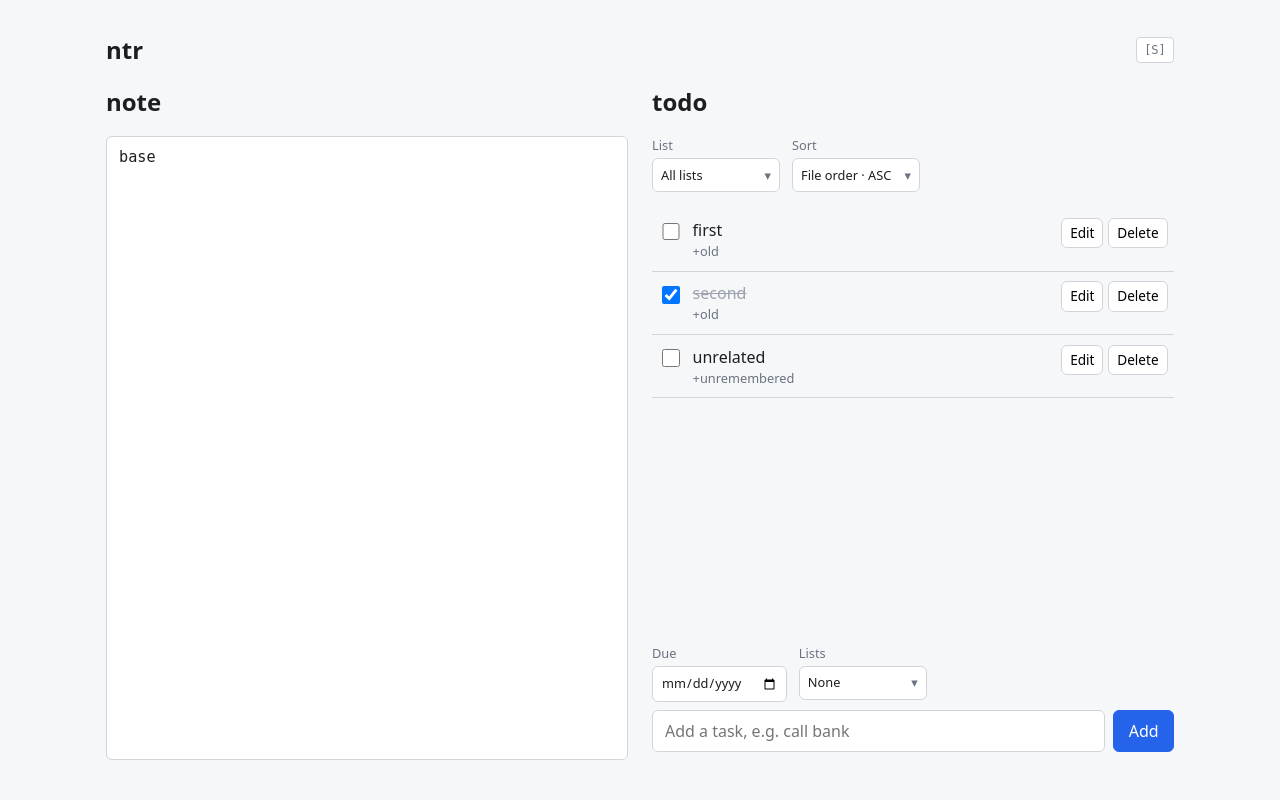
Test: list rename through real panes and transport › retains unrelated task-derived list suggestions after completion
Step 1. Click the button with aria-label "List filter" → (716, 175), box [652, 158, 780, 192]
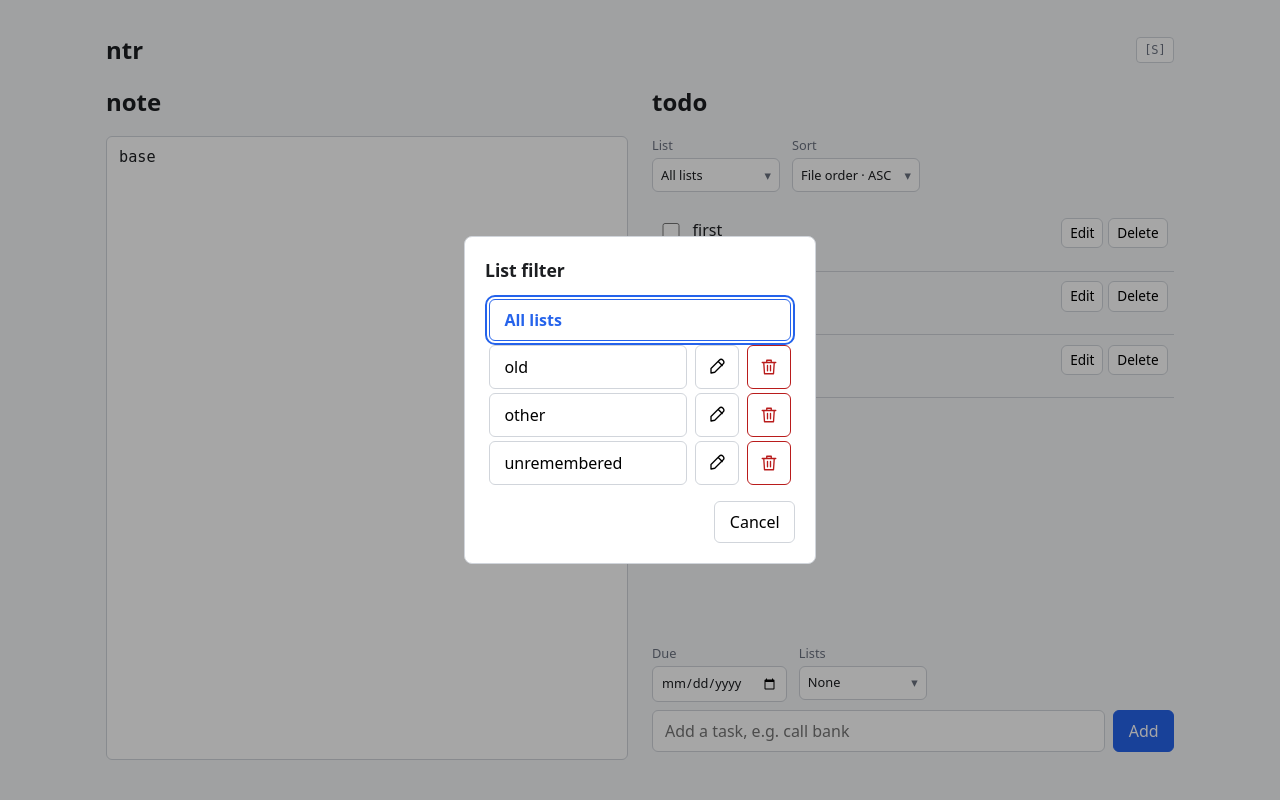
Step 2. Click the button named "Rename old" → (717, 367), box [695, 345, 739, 389]
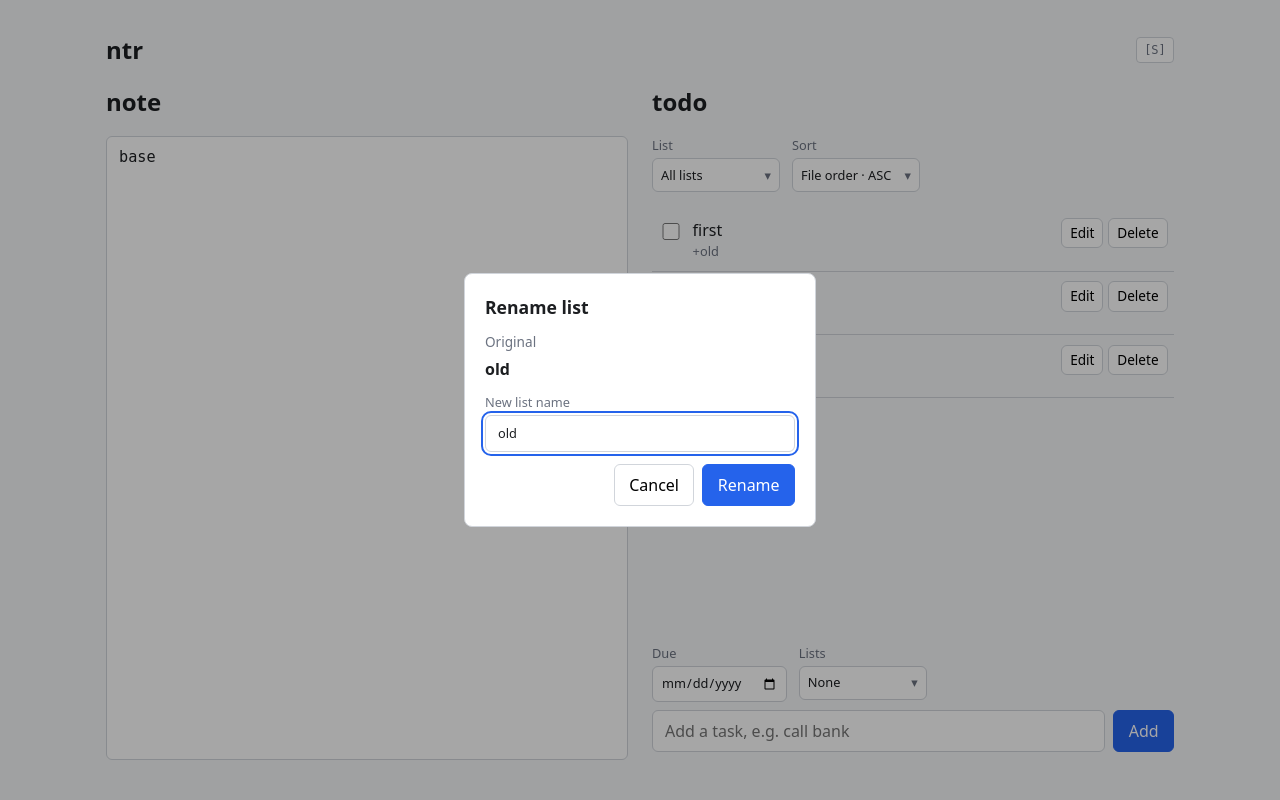
Step 3. Replace the text in the field labelled "New list name" with "new" → (640, 434), box [485, 415, 795, 452]
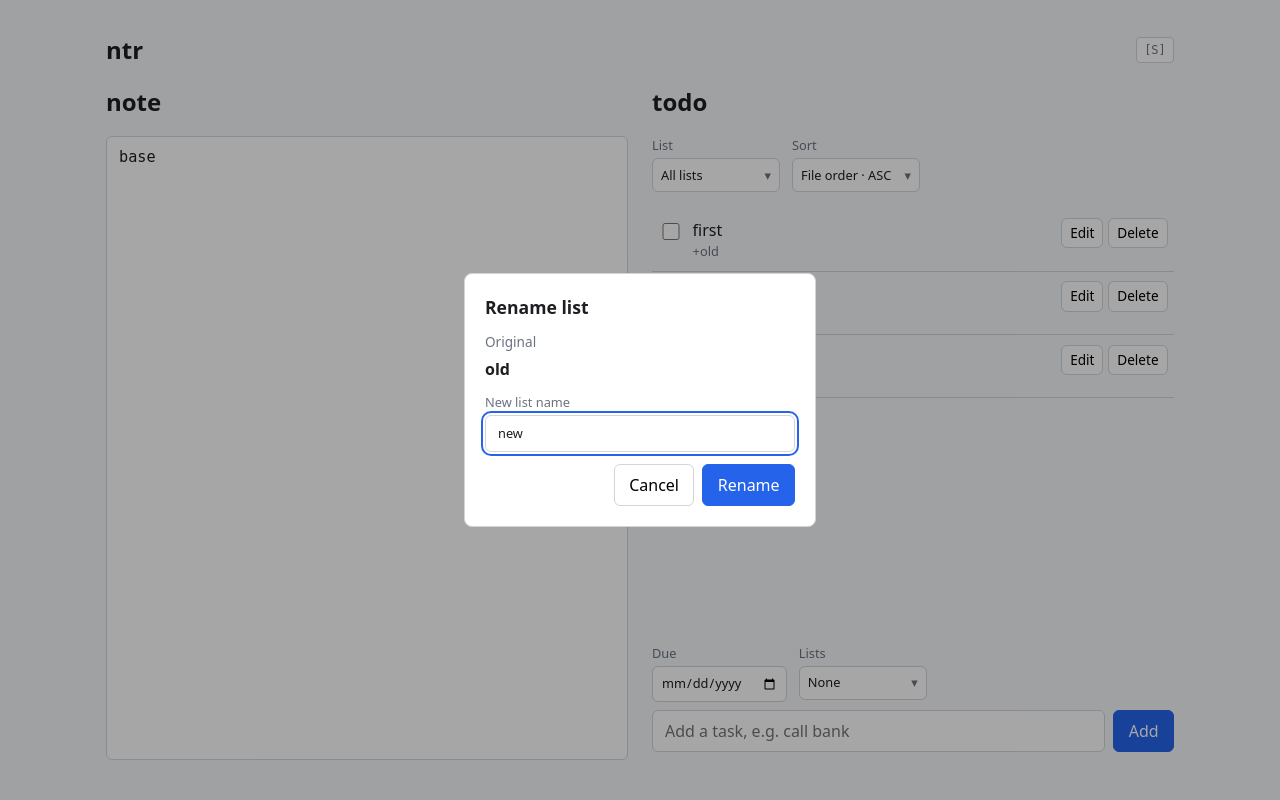
Step 4. Submit the form "Rename list Original old New list name Cancel Rename", box [485, 294, 795, 506]
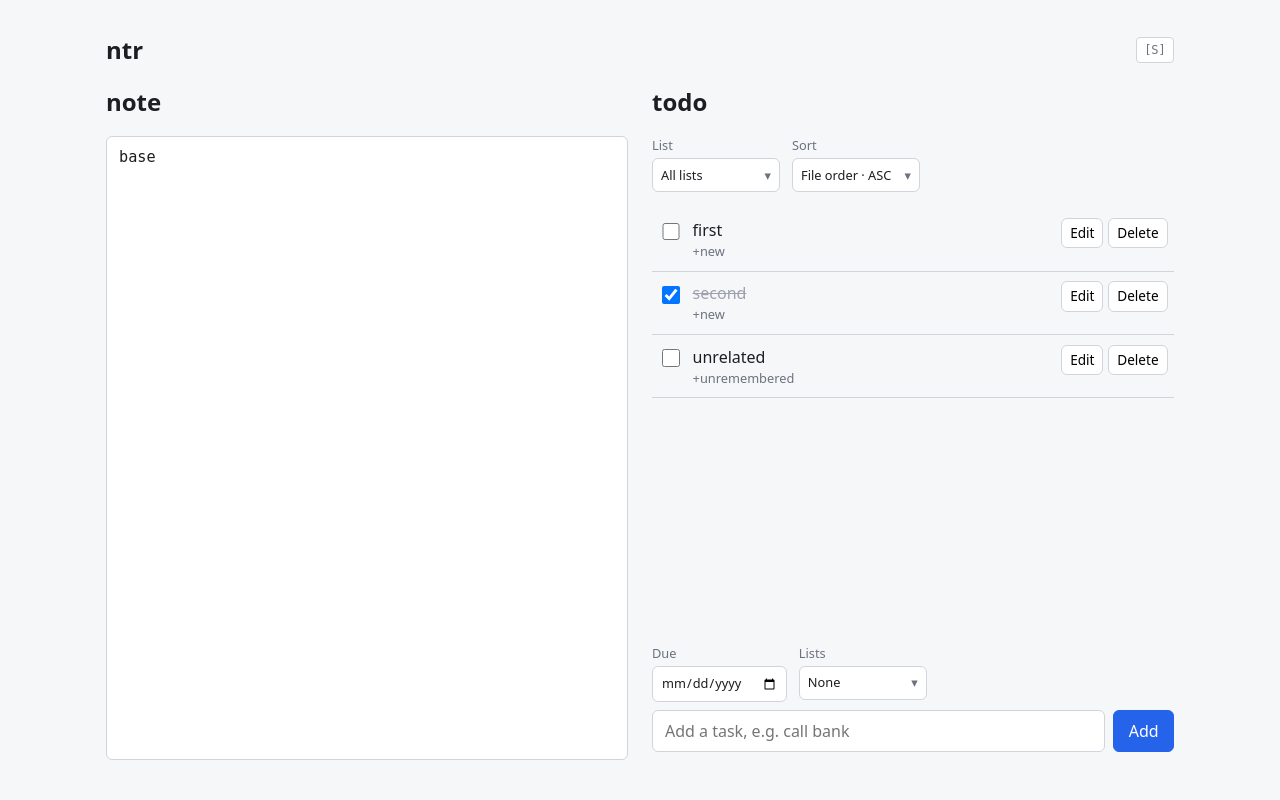
Step 5. Click the button with aria-label "List filter" → (716, 175), box [652, 158, 780, 192]
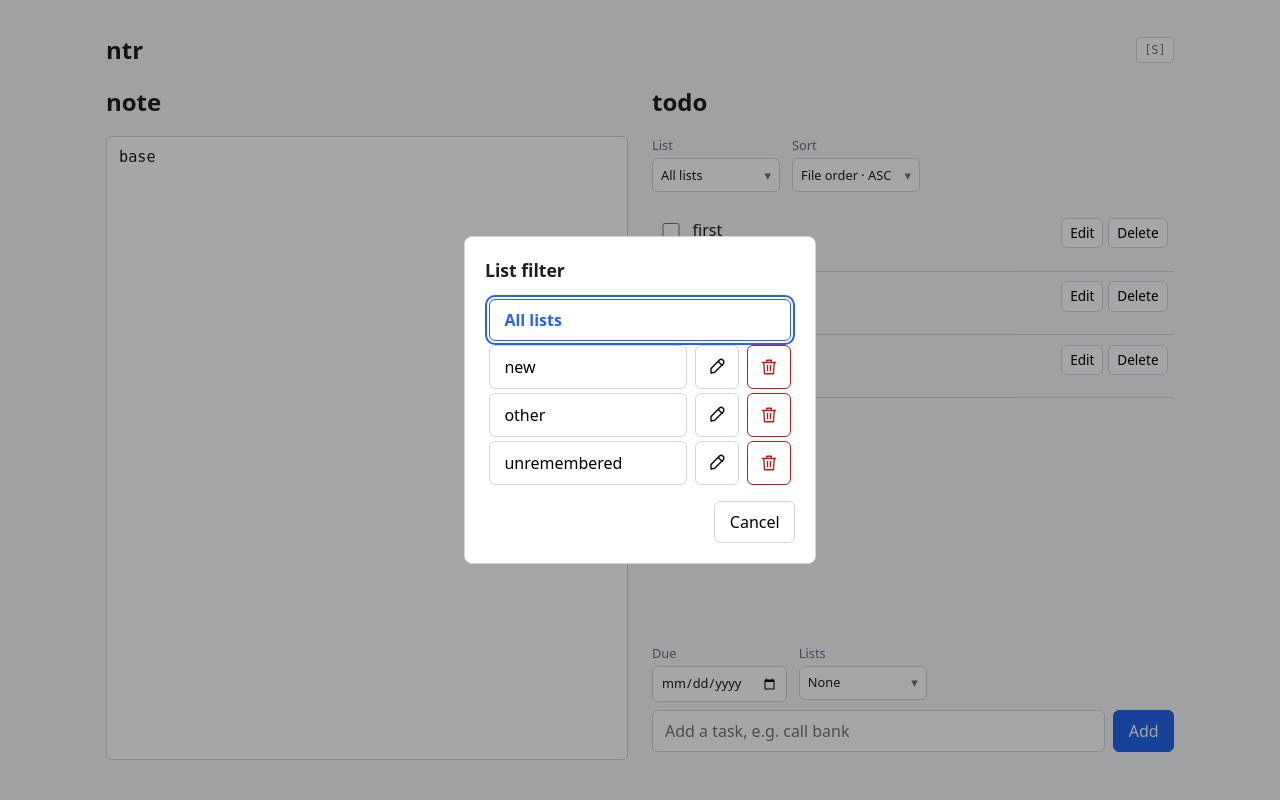
Now the button "unremembered" is shown, box [489, 441, 687, 485]
